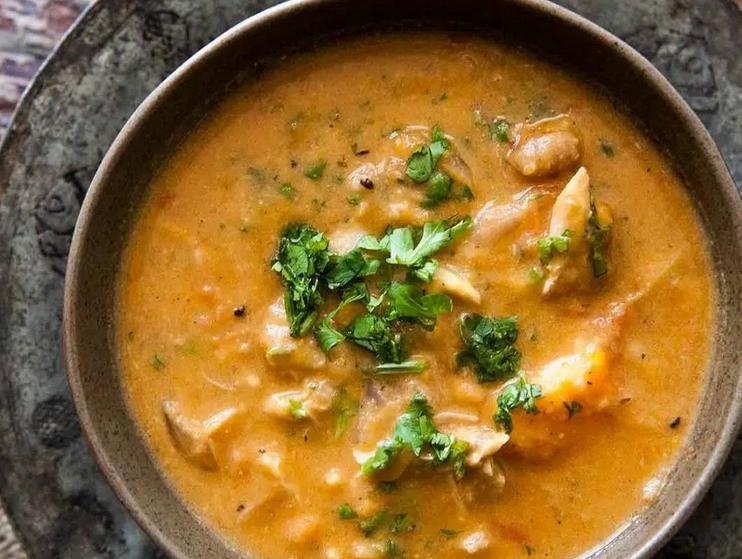celeri: (278, 227, 446, 343)
poulet: (481, 186, 587, 290)
sauce mafe: (294, 47, 458, 119)
